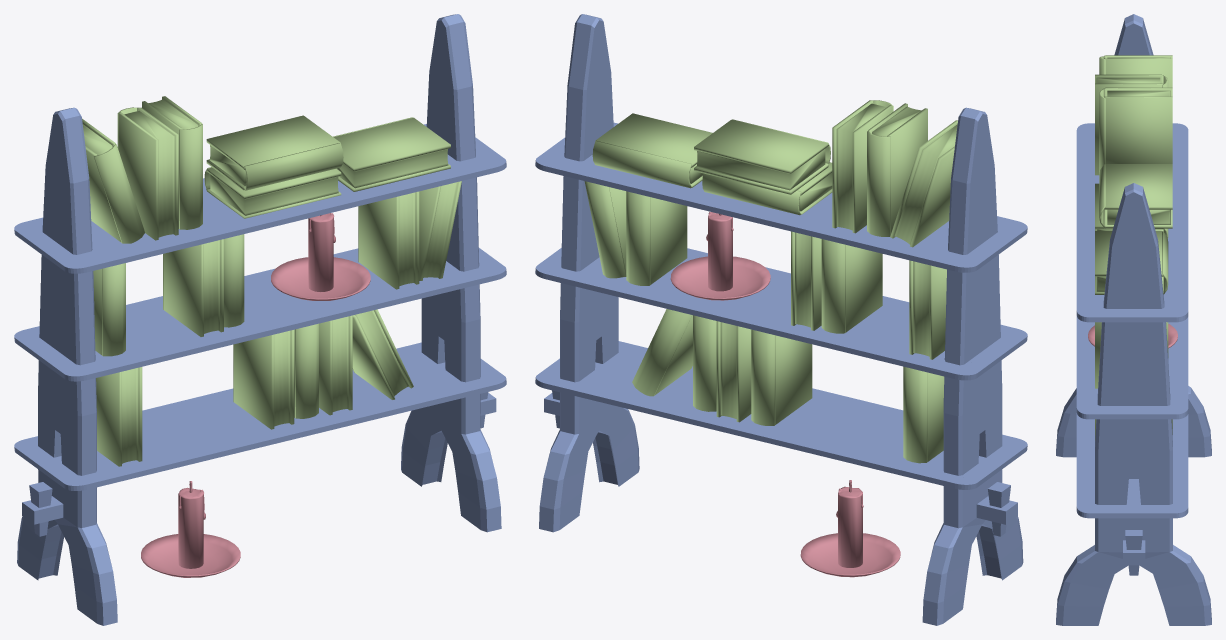
The model's file is candle.fbx.
3 renders of one model, left to right at view 1: azimuth 30°, elevation 25°; view 2: azimuth 150°, elevation 25°; view 3: azimuth 270°, elevation 25°, orthographic. The views are drawn at different scales.
Parts seen in each view (by area): view 1: bookcase, candle, bookcase_contents.072, bookcase_contents.023, bookcase_contents.019, bookcase_contents.035, bookcase_contents.011, bookcase_contents.055, bookcase_contents.043, bookcase_contents.006, bookcase_contents.026, bookcase_contents.018 (+21 smaller); view 2: bookcase, candle, bookcase_contents.023, bookcase_contents.072, bookcase_contents.019, bookcase_contents.011, bookcase_contents.006, bookcase_contents.043, bookcase_contents.055, bookcase_contents.022, bookcase_contents.038, bookcase_contents.062 (+23 smaller); view 3: bookcase, bookcase_contents.033, bookcase_contents.023, bookcase_contents.017, bookcase_contents.019, bookcase_contents.037, bookcase_contents.034, bookcase_contents.024, bookcase_contents.036, bookcase_contents.032, bookcase_contents.022, bookcase_contents.026 (+5 smaller).
Part boxes in pixels (x1,y1,x2,y2): bookcase: (14, 14, 506, 625); candle: (141, 481, 240, 577); bookcase_contents.072: (96, 367, 142, 466); bookcase_contents.023: (206, 115, 340, 169); bookcase_contents.019: (333, 117, 450, 171); bookcase_contents.035: (118, 112, 158, 240); bookcase_contents.011: (234, 334, 274, 429); bookcase_contents.055: (359, 196, 399, 289); bookcase_contents.043: (163, 244, 203, 336); bookcase_contents.006: (271, 257, 370, 300); bookcase_contents.026: (244, 143, 343, 190); bookcase_contents.018: (94, 144, 144, 243); bookcase: (535, 14, 1027, 625); candle: (800, 480, 900, 577); bookcase_contents.023: (694, 119, 828, 173); bookcase_contents.072: (903, 366, 944, 463); bookcase_contents.019: (595, 113, 712, 167); bookcase_contents.011: (775, 335, 812, 424); bookcase_contents.006: (670, 256, 770, 300); bookcase_contents.043: (845, 245, 882, 332); bookcase_contents.055: (650, 197, 687, 284); bookcase_contents.022: (592, 140, 691, 188); bookcase_contents.038: (867, 131, 890, 236); bookcase_contents.062: (632, 309, 692, 396); bookcase: (1056, 14, 1211, 625); bookcase_contents.033: (1104, 96, 1172, 163); bookcase_contents.023: (1104, 164, 1172, 209); bookcase_contents.017: (1104, 58, 1172, 87); bookcase_contents.019: (1095, 231, 1163, 276); bookcase_contents.037: (1095, 83, 1163, 175); bookcase_contents.034: (1099, 88, 1105, 173); bookcase_contents.024: (1107, 209, 1170, 224); bookcase_contents.036: (1096, 77, 1160, 83); bookcase_contents.032: (1107, 90, 1170, 96); bookcase_contents.022: (1162, 231, 1168, 294); bookcase_contents.026: (1099, 164, 1105, 228).
Size of the model in its own units: 3374 by 3382 by 1093.
